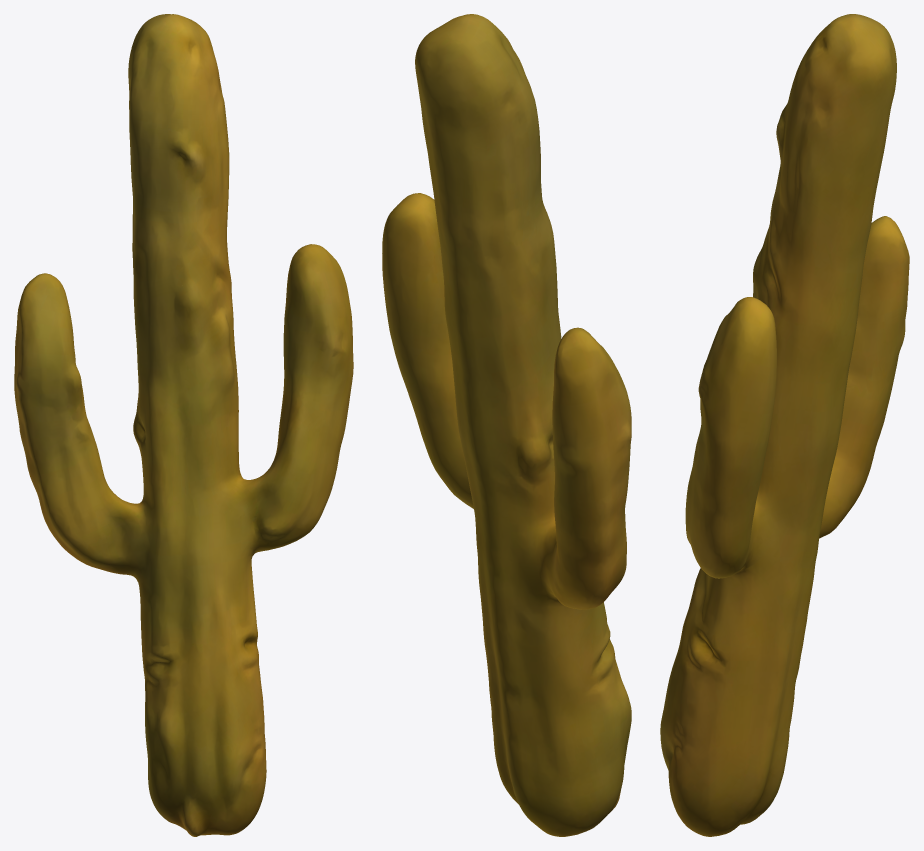
The model's file is saguaro.glb.
The picture shows the model from 3 angles, left to right: view 1: azimuth 30°, elevation 25°; view 2: azimuth 150°, elevation 25°; view 3: azimuth 270°, elevation 25°; orthographic projection. The views are drawn at different scales.
Visible parts, largest first — view 1: tripo_node_565281b3-37b9-4e6b-8913-bc1c022d6b88; view 2: tripo_node_565281b3-37b9-4e6b-8913-bc1c022d6b88; view 3: tripo_node_565281b3-37b9-4e6b-8913-bc1c022d6b88.
Boxes of the visible parts, x1,y1,x2,y2 form: tripo_node_565281b3-37b9-4e6b-8913-bc1c022d6b88: [14, 14, 353, 836]; tripo_node_565281b3-37b9-4e6b-8913-bc1c022d6b88: [382, 14, 631, 836]; tripo_node_565281b3-37b9-4e6b-8913-bc1c022d6b88: [660, 14, 909, 836].
Bounding box in the file's own units: 1.5 × 4 × 1.1.
Materials: 1 (1 with a texture image).
